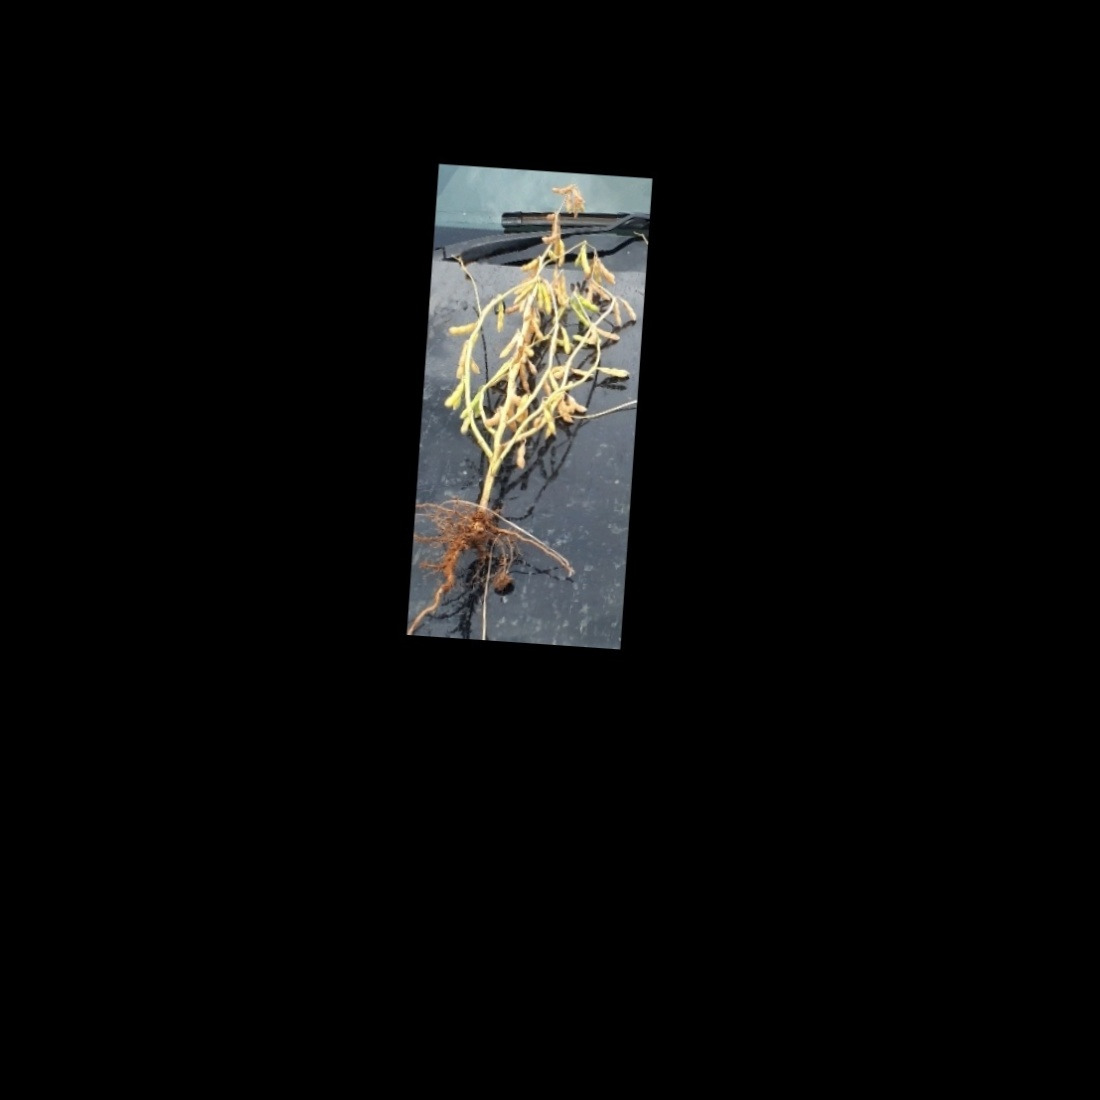pod: (441, 377, 465, 410), (498, 328, 519, 358), (596, 363, 630, 381), (446, 318, 476, 337), (513, 440, 530, 471), (578, 242, 592, 276), (609, 298, 625, 329), (516, 255, 539, 275)
soy: (418, 172, 651, 636)
